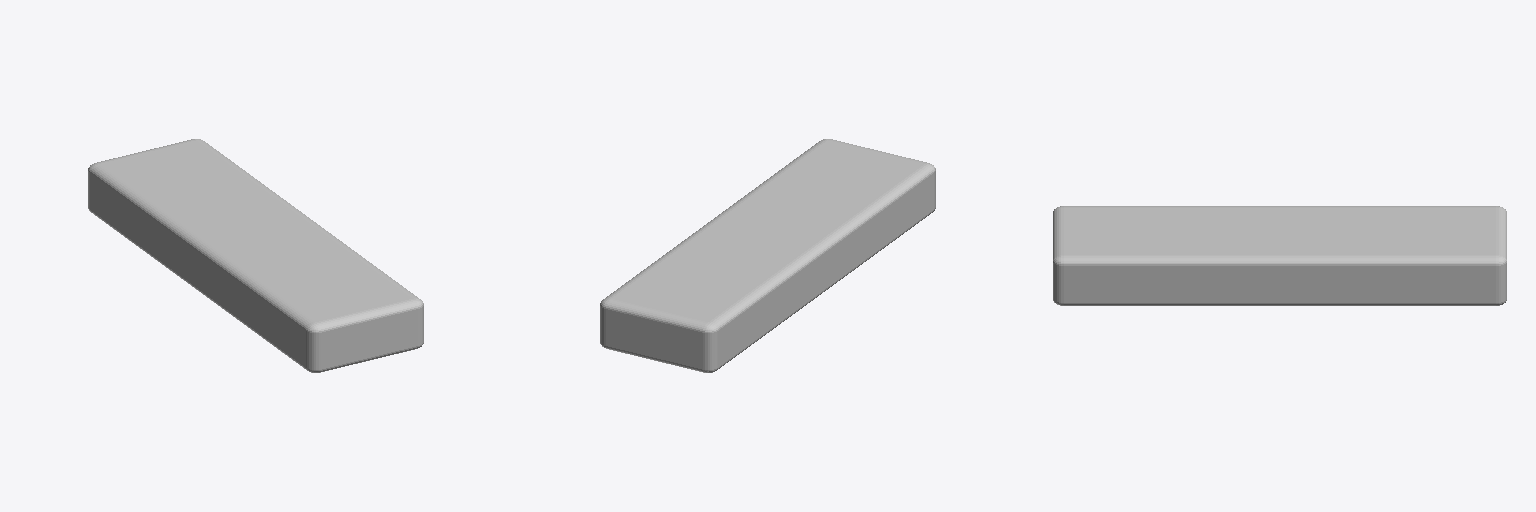
File: shelf.obj
3 views of the same model, side by side, from view 1: azimuth 30°, elevation 25°; view 2: azimuth 150°, elevation 25°; view 3: azimuth 270°, elevation 25° (orthographic).
Parts seen in each view (by area): view 1: shelf; view 2: shelf; view 3: shelf.
Boxes of the visible parts, x1=… form: shelf: x1=88, y1=139, x2=423, y2=372; shelf: x1=600, y1=139, x2=935, y2=372; shelf: x1=1053, y1=206, x2=1506, y2=305.
Size of the model in its own units: 0.3628 by 0.1469 by 1.23.